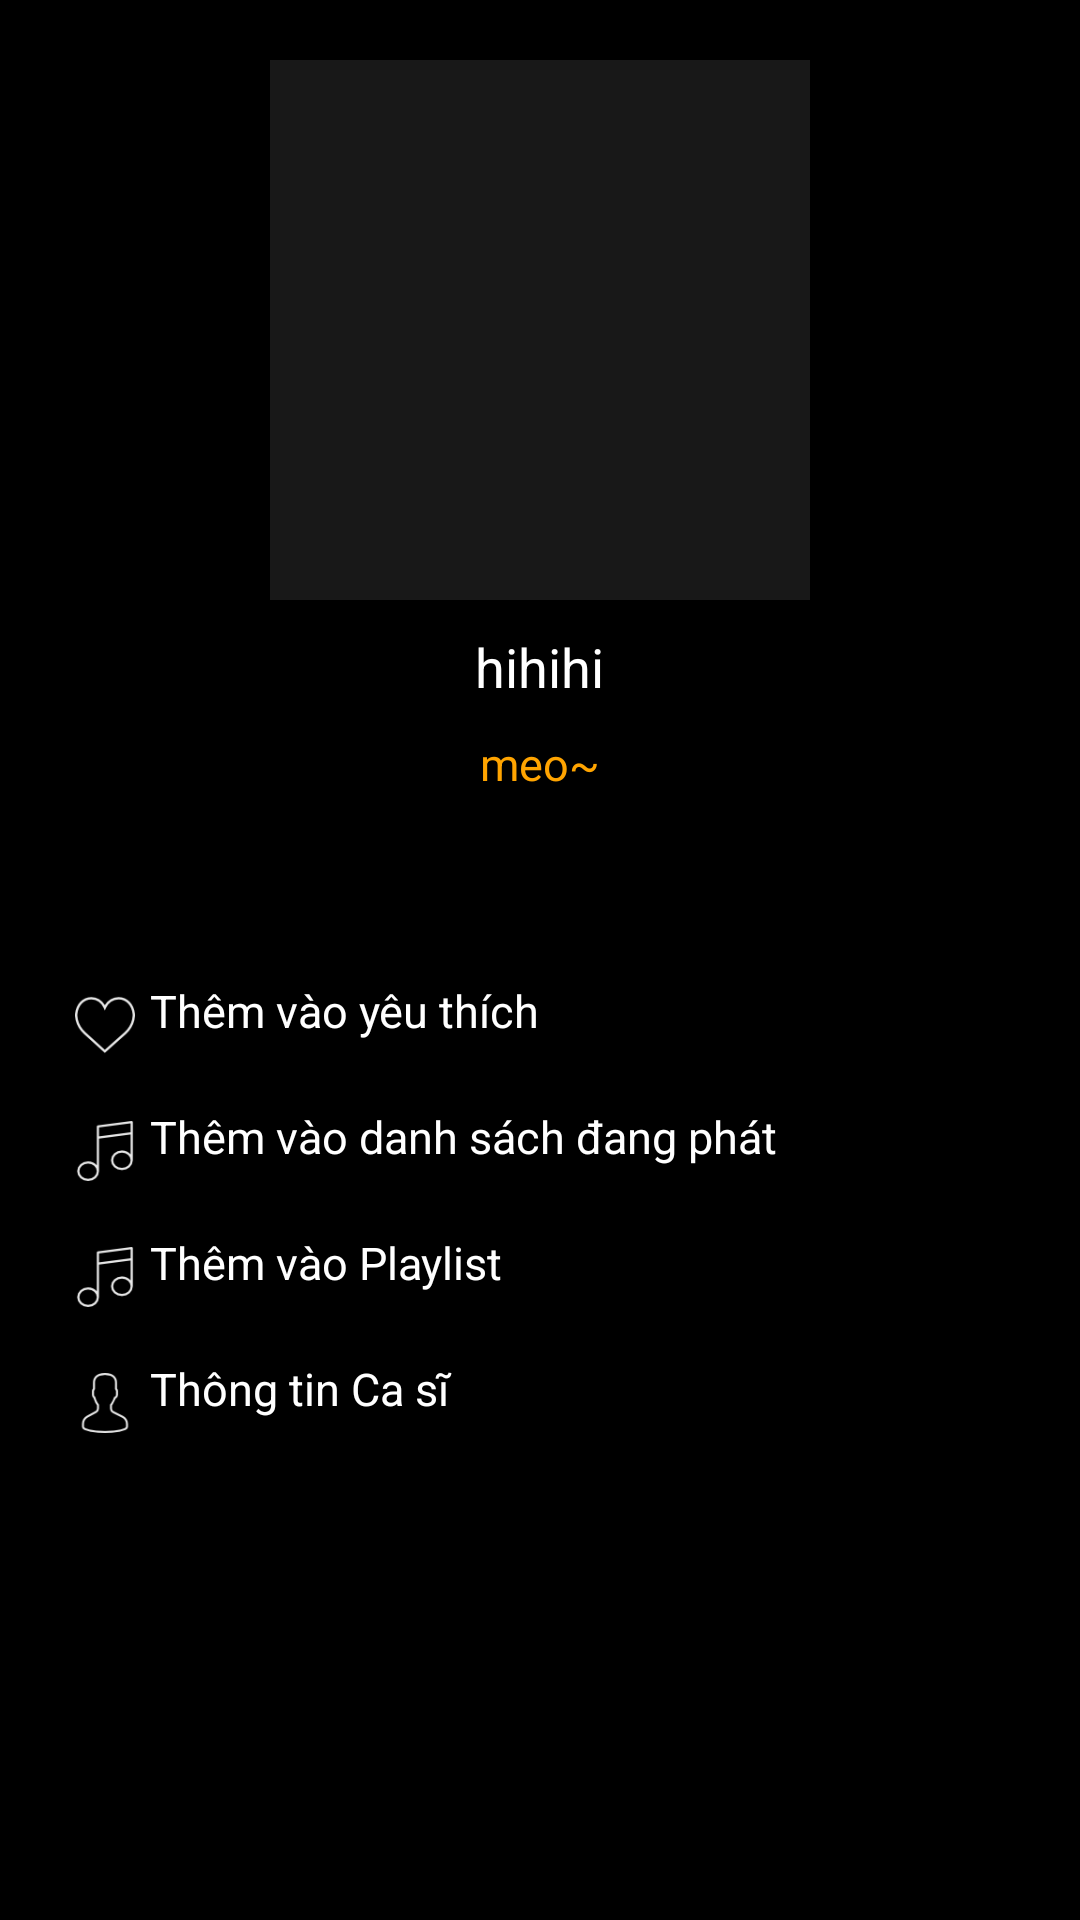

Icons on this 1080×1920 Android screen, each with its box as (x1, y1, x2, y2):
like: (75, 997, 135, 1053)
musi: (77, 1121, 133, 1181), (77, 1247, 133, 1307)
user: (81, 1373, 129, 1433)
